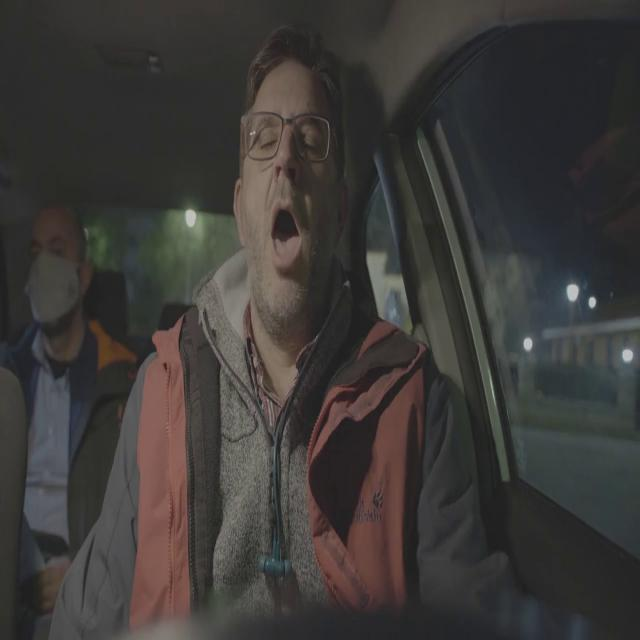open-mouth: (268, 194, 304, 278)
